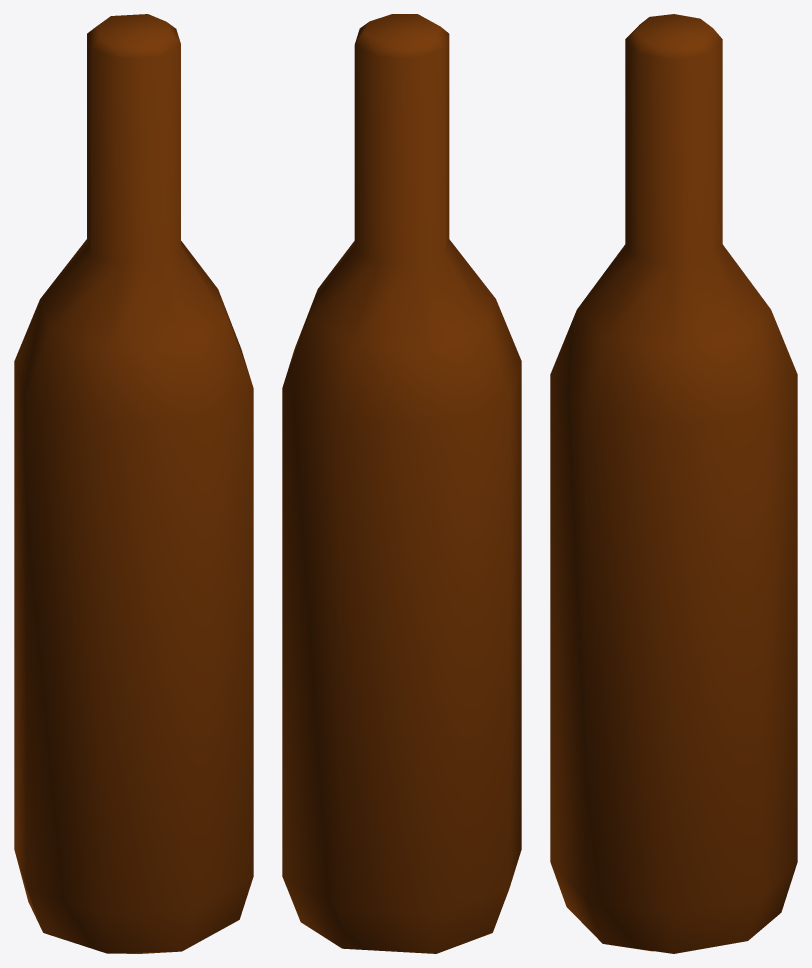
Rendered from Botella_Buena.fbx.
The picture shows the model from 3 angles, left to right: view 1: azimuth 30°, elevation 25°; view 2: azimuth 150°, elevation 25°; view 3: azimuth 270°, elevation 25°; orthographic projection.
Visible parts, largest first — view 1: Object022; view 2: Object022; view 3: Object022.
Part boxes in pixels (x1,y1,x2,y2): Object022: [14, 14, 253, 953]; Object022: [282, 14, 521, 953]; Object022: [550, 14, 797, 953].
Size of the model in its own units: 7 by 27.95 by 7.
